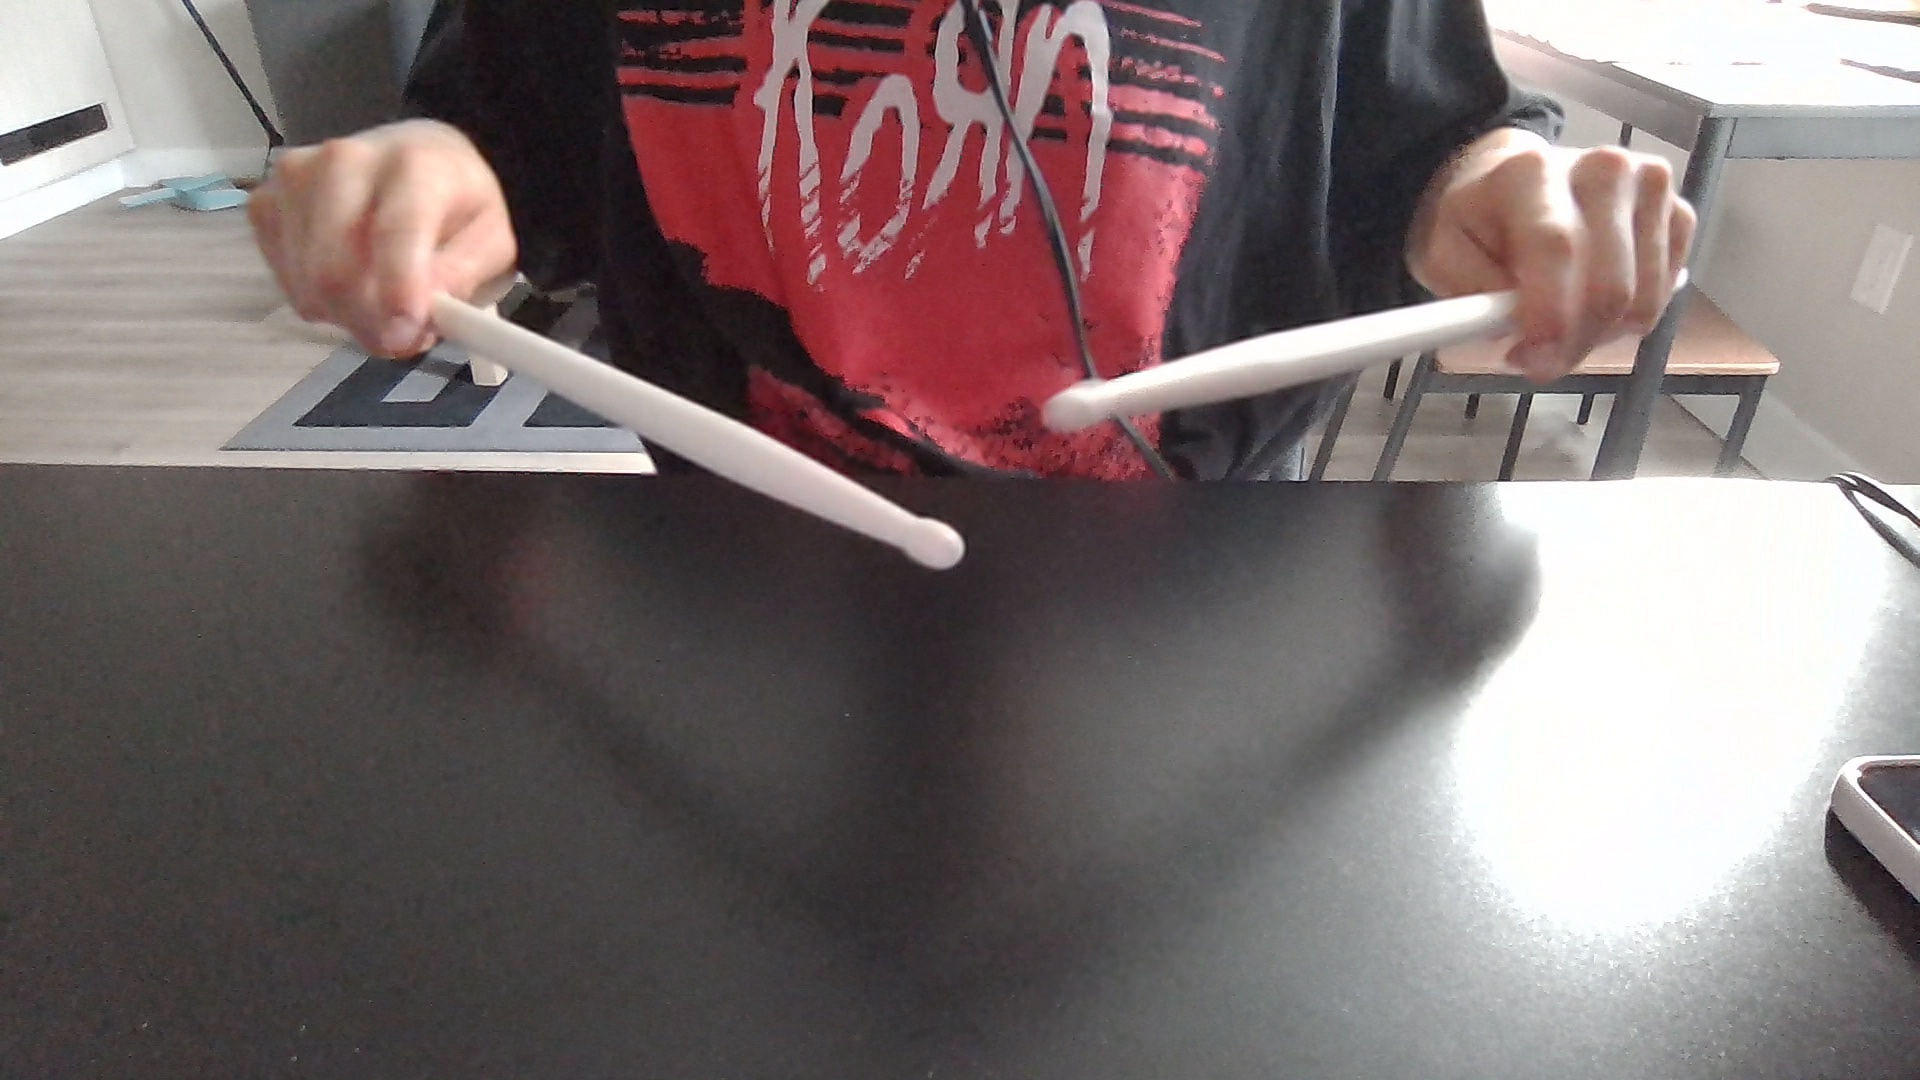left_stick: (891, 496, 985, 589)
right_stick: (1043, 361, 1106, 456)
